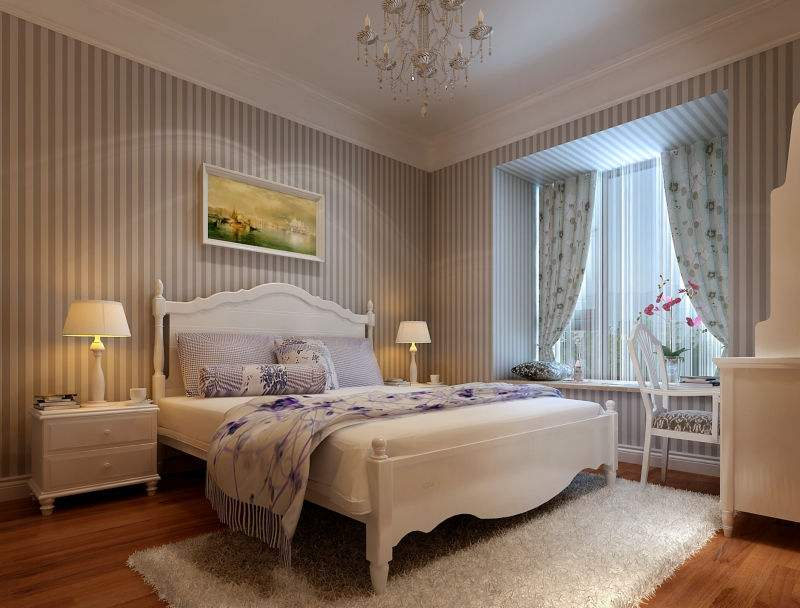床: (169, 381, 619, 558)
枕头: (153, 329, 387, 393)
灯: (352, 5, 494, 111), (60, 296, 129, 409), (393, 316, 433, 382)
